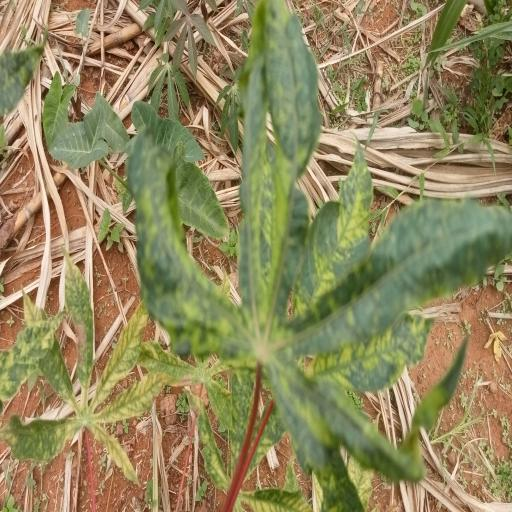Cassava_Mosaic: (132, 9, 512, 512), (10, 256, 158, 488)
